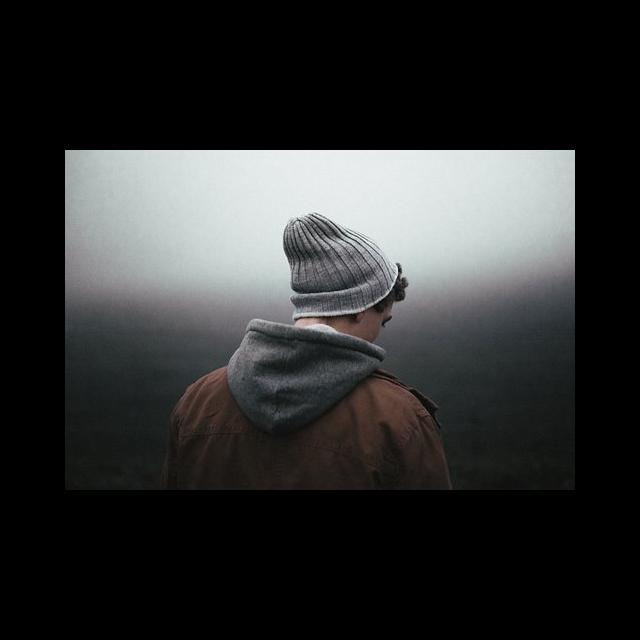male: (274, 207, 427, 337)
